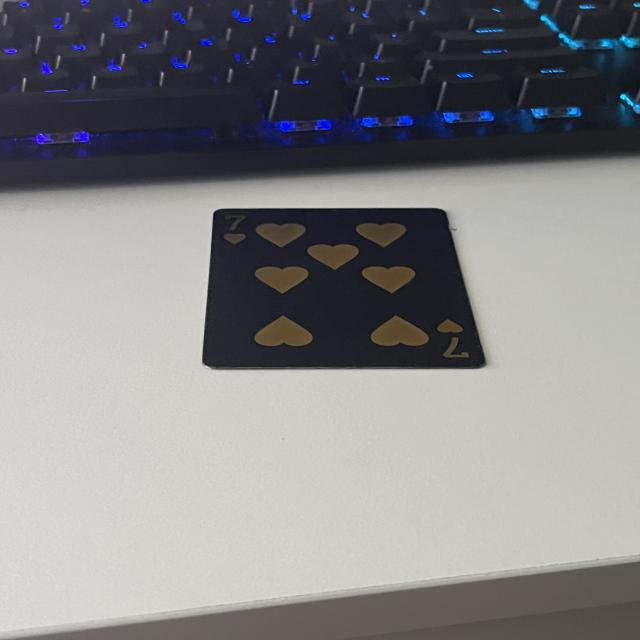7H: (431, 316, 472, 361), (220, 211, 250, 247)
